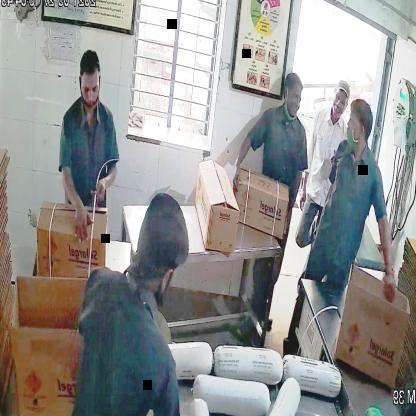no_goggles: (75, 76, 104, 104), (346, 114, 373, 137)
